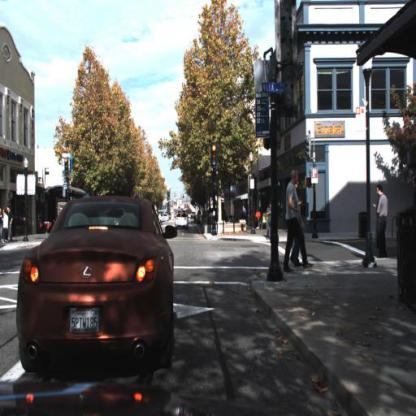car: (14, 194, 178, 375), (175, 210, 189, 234)
pedestrian: (278, 167, 307, 275), (293, 179, 307, 269), (375, 185, 389, 264), (376, 184, 390, 257), (266, 201, 275, 243), (266, 202, 274, 240), (7, 208, 14, 240), (9, 204, 14, 238)
trafficLight-Red: (211, 141, 218, 165), (64, 157, 70, 176)
